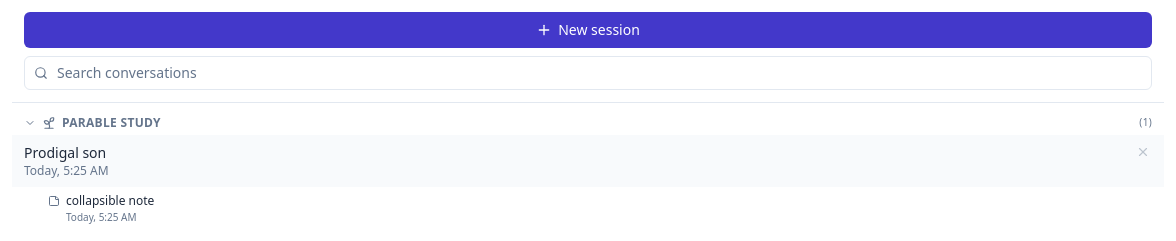
Test: SessionsPane › hides note rows when their mode section is collapsed
This screenshot has width=1176, height=241.
Expected: the text "collapsible note" is shown, x1=66 y1=193 x2=154 y2=209
What coordinates should you click on to do the following:
click the button "Parable Study (1)"
I would click on:
 (111, 122)
Its box is x1=12 y1=103 x2=1164 y2=135.
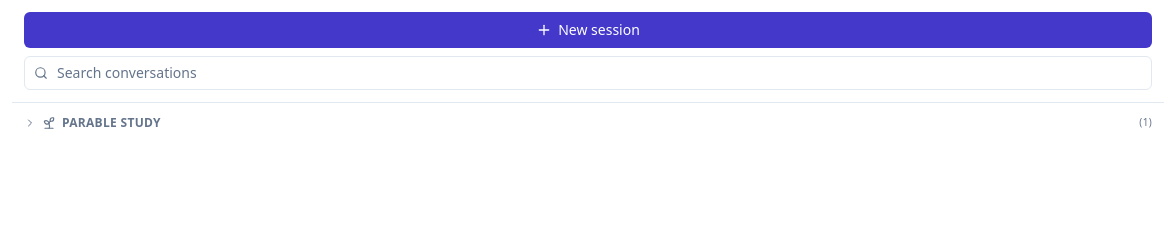
Expected: the button "collapsible note" is gone
